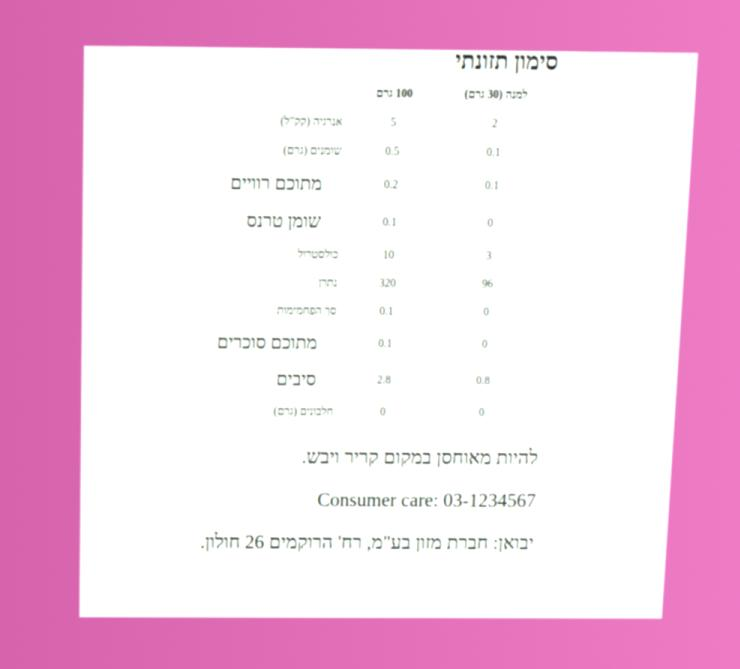carbs: (378, 303, 395, 319)
energy: (389, 114, 398, 130)
fat: (383, 143, 401, 159)
protein: (378, 404, 387, 419)
